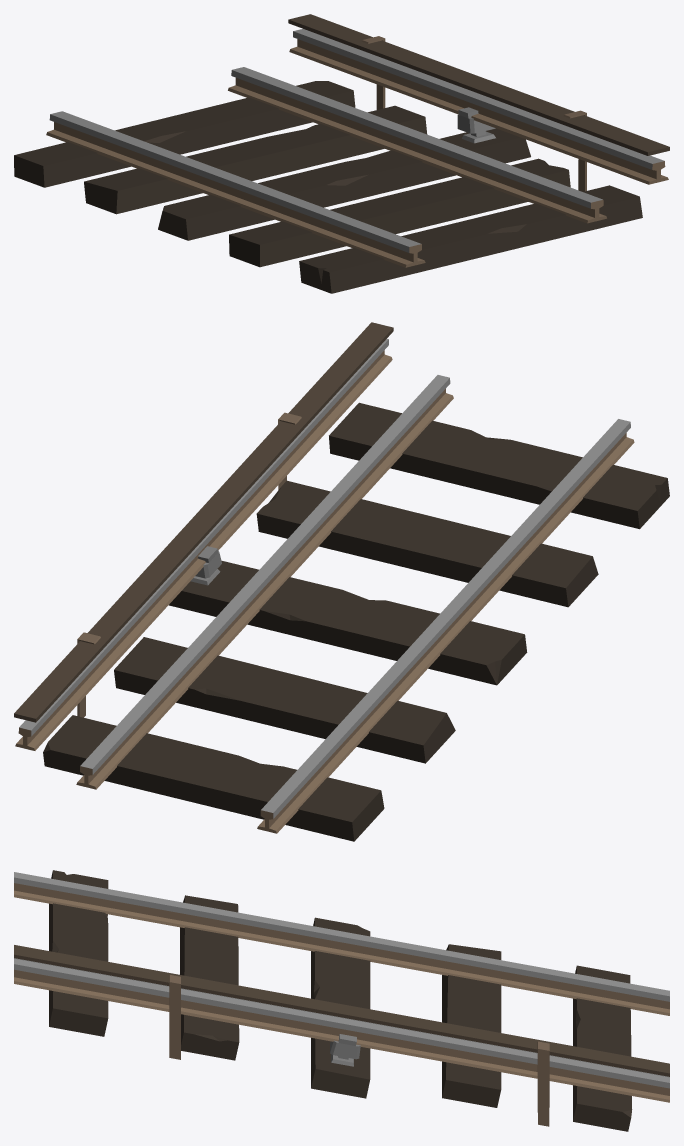
File: SW_ENV_TrackRise_5m.fbx
3 renders of one model, top to bottom at view 1: azimuth 30°, elevation 25°; view 2: azimuth 150°, elevation 25°; view 3: azimuth 270°, elevation 25°, orthographic. The views are drawn at different scales.
Parts seen in each view (by area): view 1: SW_ENV_TrackRise_5m; view 2: SW_ENV_TrackRise_5m; view 3: SW_ENV_TrackRise_5m.
Boxes of the visible parts, <box> form: SW_ENV_TrackRise_5m: <box>14,14,669,293</box>; SW_ENV_TrackRise_5m: <box>14,322,669,841</box>; SW_ENV_TrackRise_5m: <box>14,870,669,1131</box>.
Size of the model in its own units: 276 by 152 by 500.
